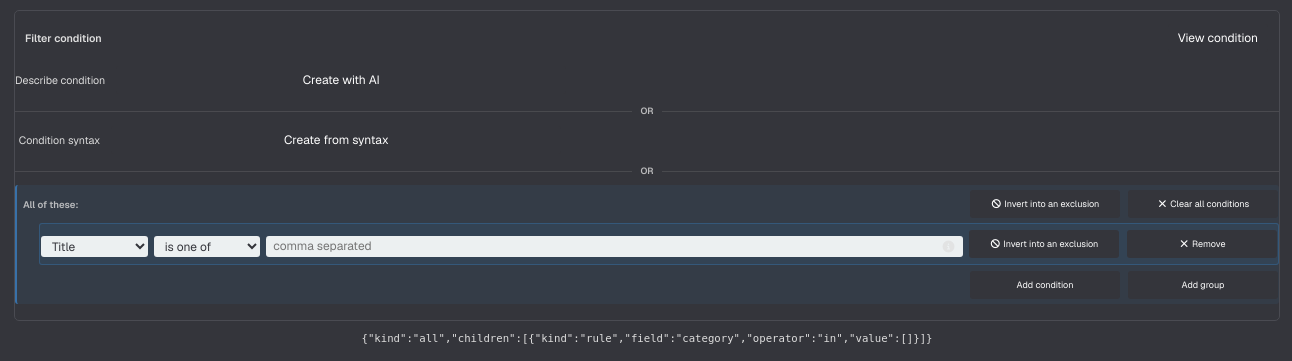
Test: FieldRuleEditor › tidies the text once focus leaves
Step 1. Type "a,  b , " into the field → [615, 246], box [266,236,963,256]
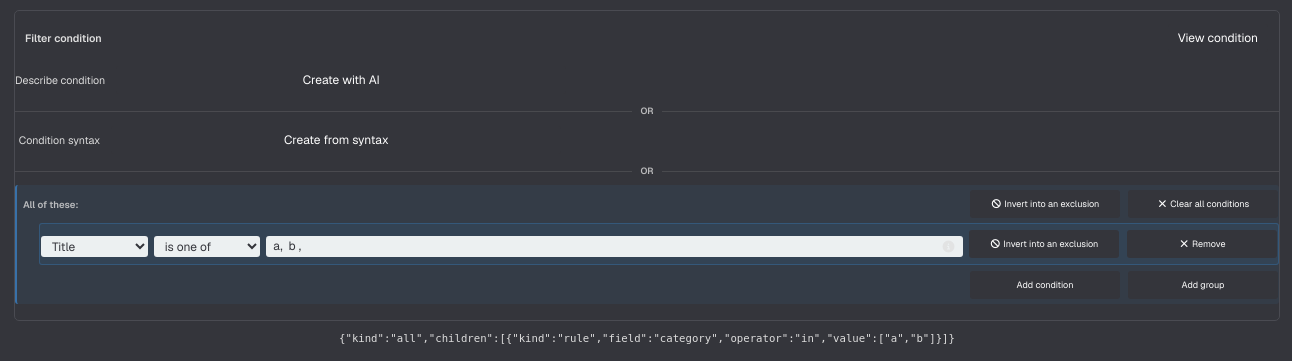
Step 2. Leave the field, box [266,236,963,256]
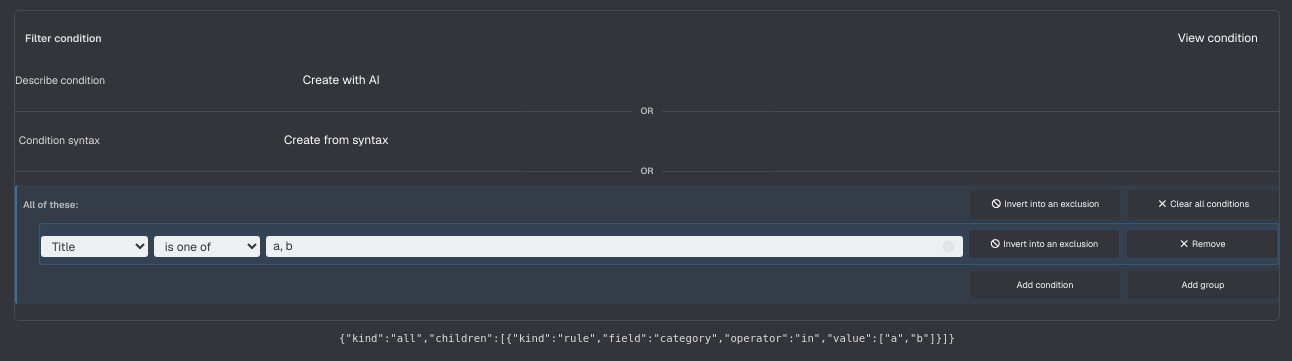
Check: the field holds "a, b", box [266,236,963,256]
